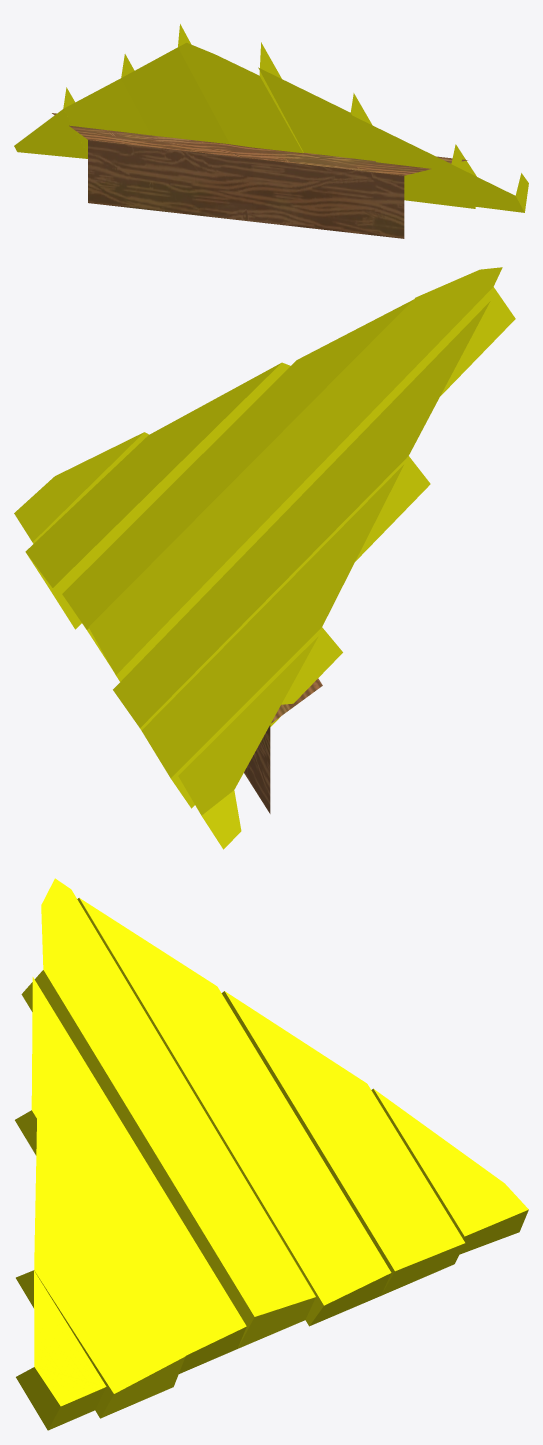
The model's file is roof-wooden-2x1-corner.glb.
The picture shows the model from 3 angles, top to bottom: view 1: azimuth 30°, elevation 25°; view 2: azimuth 150°, elevation 25°; view 3: azimuth 270°, elevation 25°; orthographic projection. The views are drawn at different scales.
Parts seen in each view (by area): view 1: Roof_Wooden_2x1_Corner; view 2: Roof_Wooden_2x1_Corner; view 3: Roof_Wooden_2x1_Corner.
Boxes of the visible parts, <box> form: Roof_Wooden_2x1_Corner: <box>14,24,528,238</box>; Roof_Wooden_2x1_Corner: <box>14,267,515,849</box>; Roof_Wooden_2x1_Corner: <box>15,878,528,1430</box>.
Bounding box in the file's own units: 1.54 × 1.18 × 1.56.
2 materials, 1 textured.
